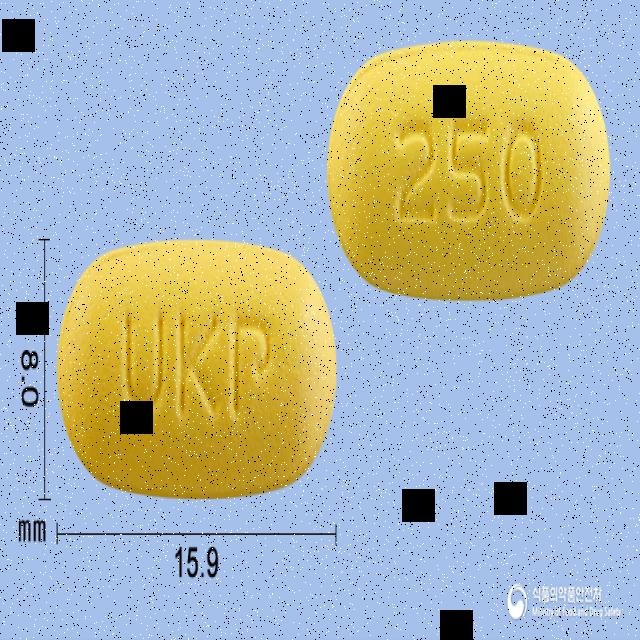Clazin - 500mg: (57, 233, 337, 500), (324, 42, 612, 300)
